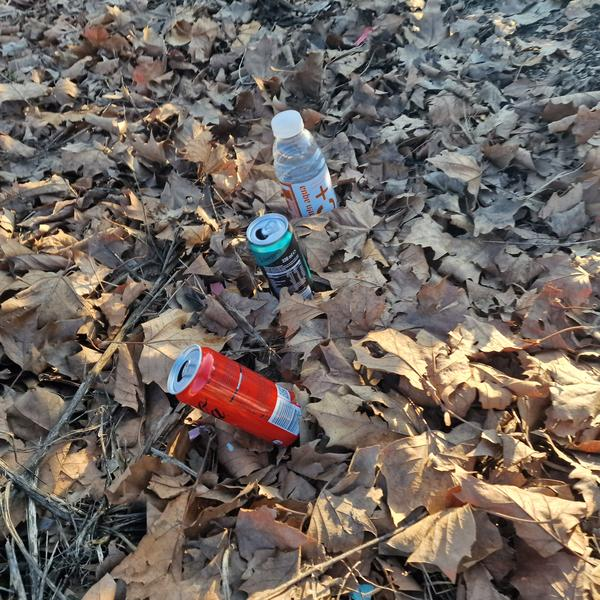can: (161, 337, 319, 455), (239, 204, 324, 310)
plastic_bottle: (258, 104, 343, 230)
